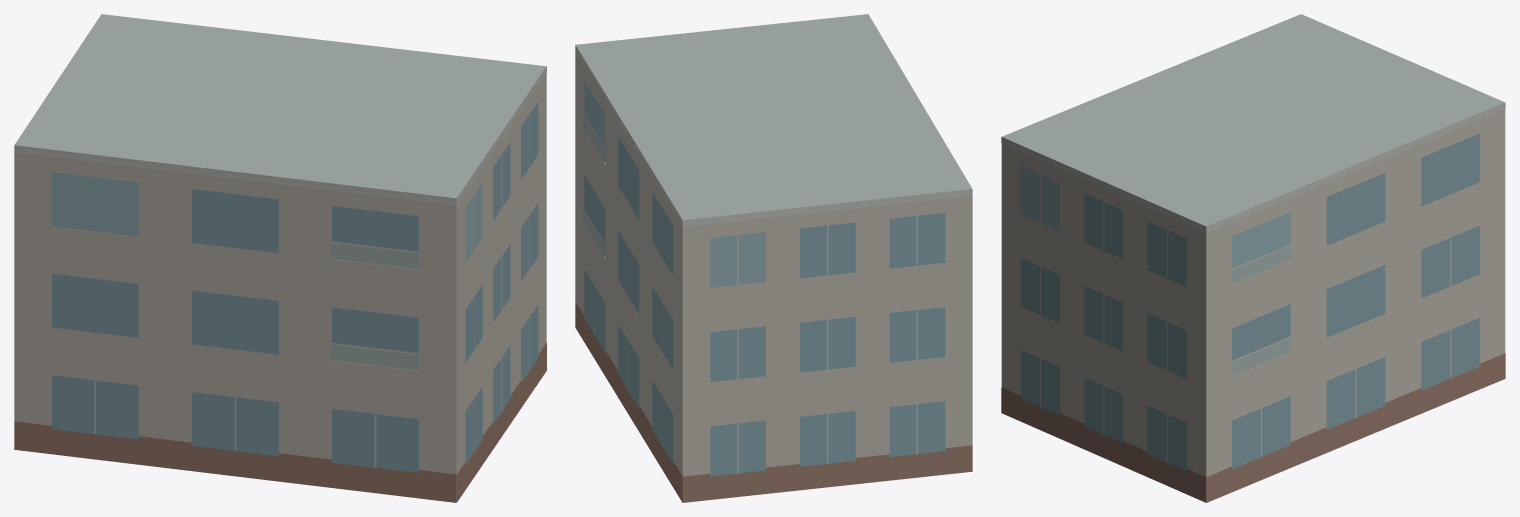
Rendered from survey-upis-32884473.glb.
3 renders of one model, left to right at view 1: azimuth 30°, elevation 25°; view 2: azimuth 150°, elevation 25°; view 3: azimuth 270°, elevation 25°, orthographic. The views are drawn at different scales.
Visible parts, largest first — view 1: survey-upis-32884473.tmp; view 2: survey-upis-32884473.tmp; view 3: survey-upis-32884473.tmp.
Part boxes in pixels (x1,y1,x2,y2): survey-upis-32884473.tmp: [14, 14, 546, 502]; survey-upis-32884473.tmp: [575, 14, 972, 502]; survey-upis-32884473.tmp: [1001, 14, 1505, 502].
Bounding box in the file's own units: 16.84 × 10.2 × 16.86.
